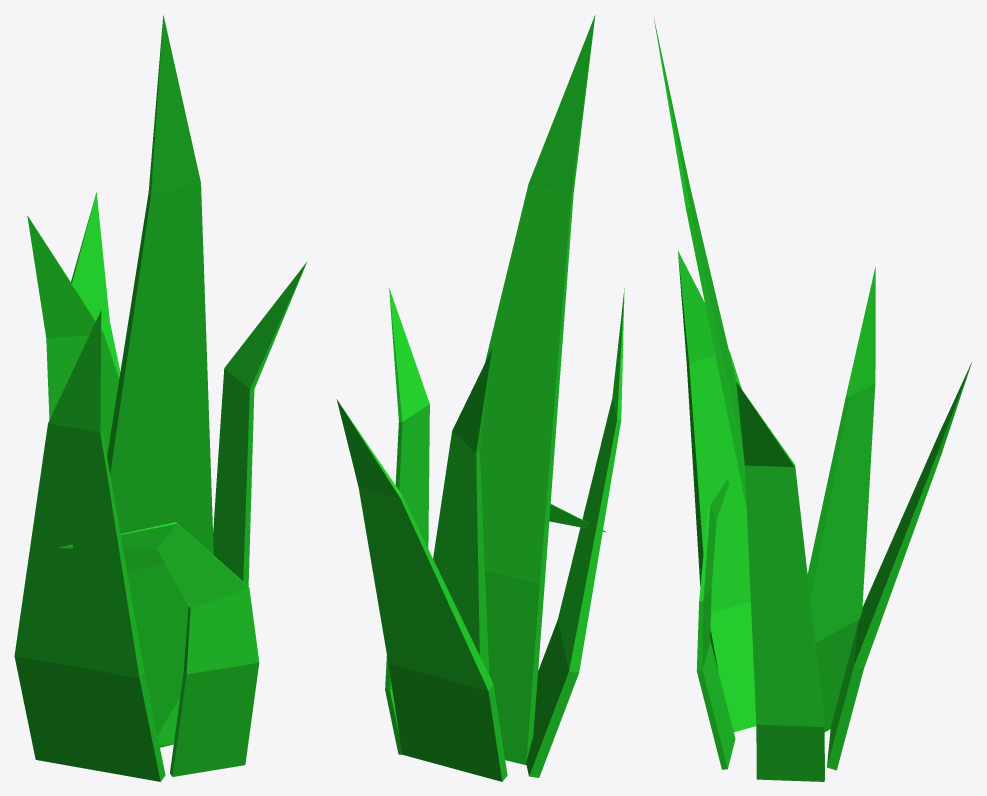
File: grass1.fbx
The picture shows the model from 3 angles, left to right: view 1: azimuth 30°, elevation 25°; view 2: azimuth 150°, elevation 25°; view 3: azimuth 270°, elevation 25°; orthographic projection. The views are drawn at different scales.
Parts seen in each view (by area): view 1: Cube.002; view 2: Cube.002; view 3: Cube.002.
Boxes of the visible parts, x1,y1,x2,y2 form: Cube.002: (14, 15, 307, 781); Cube.002: (336, 15, 624, 781); Cube.002: (653, 17, 971, 781).
Size of the model in its own units: 750 by 2218 by 902.
